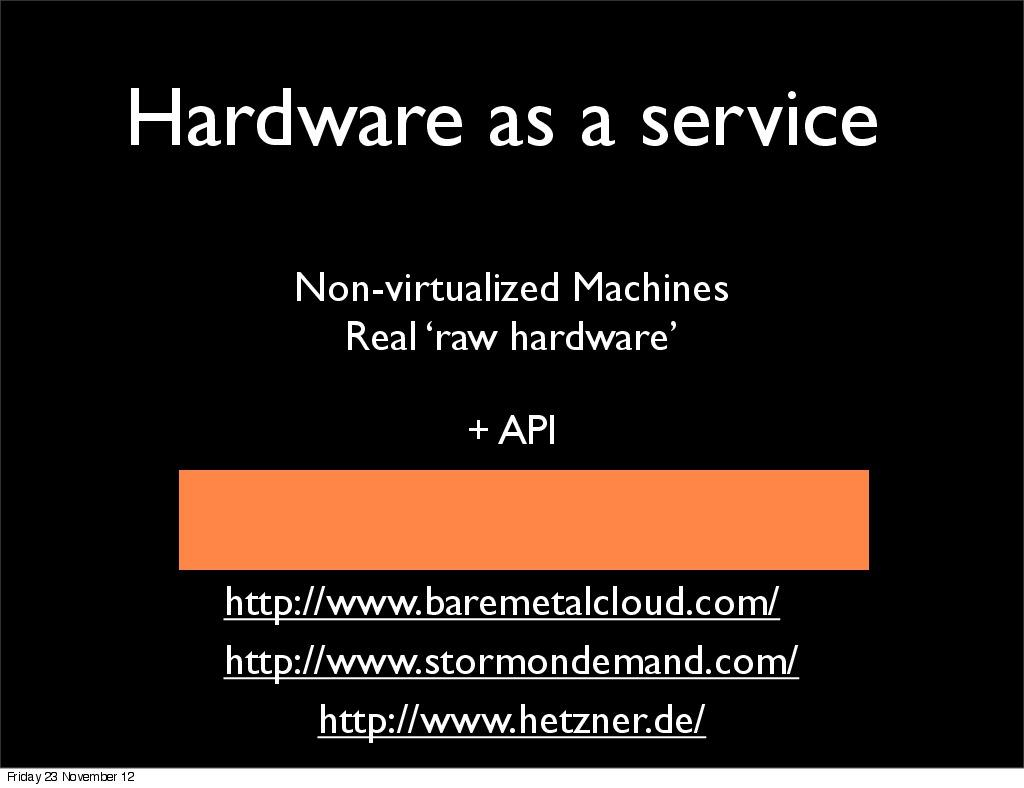subtitle: (248, 245, 782, 459), (211, 580, 831, 747)
title: (100, 57, 912, 191)
